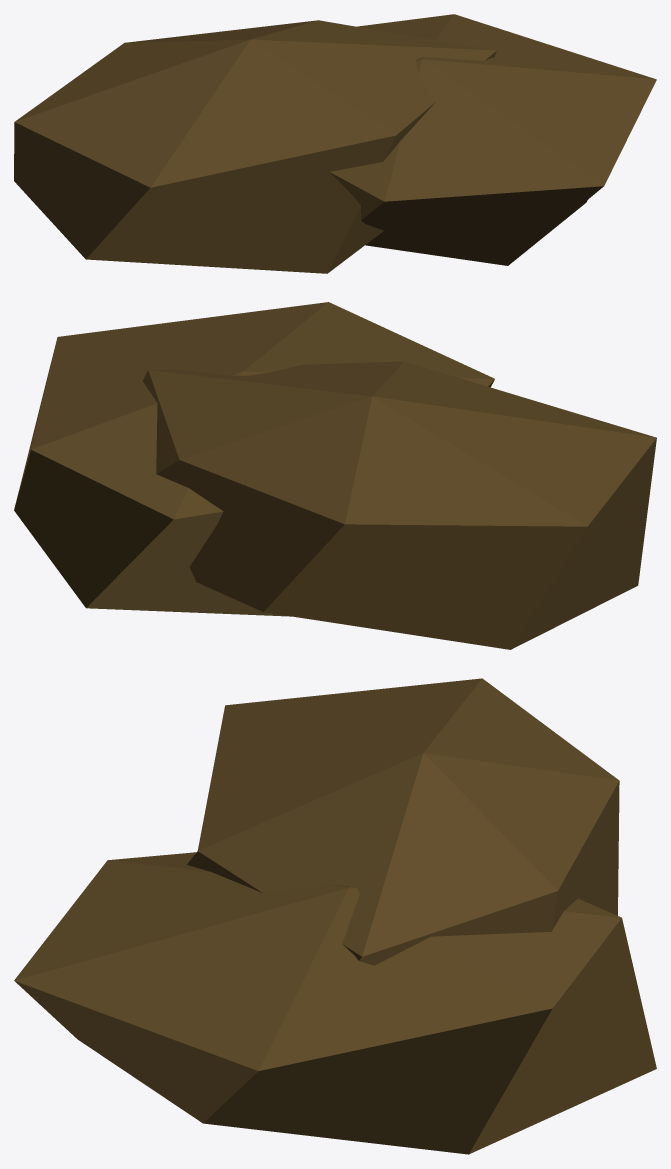
File: sand-plum-far.glb
3 views of the same model, one above another, from view 1: azimuth 30°, elevation 25°; view 2: azimuth 150°, elevation 25°; view 3: azimuth 270°, elevation 25° (orthographic). The views are drawn at different scales.
Parts seen in each view (by area): view 1: sand-plum-far / foliage; view 2: sand-plum-far / foliage; view 3: sand-plum-far / foliage.
Boxes of the visible parts, x1,y1,x2,y2 form: sand-plum-far / foliage: [14, 14, 656, 273]; sand-plum-far / foliage: [14, 302, 656, 649]; sand-plum-far / foliage: [14, 678, 656, 1154].
Bounding box in the file's own units: 2.53 × 0.8713 × 1.94.
